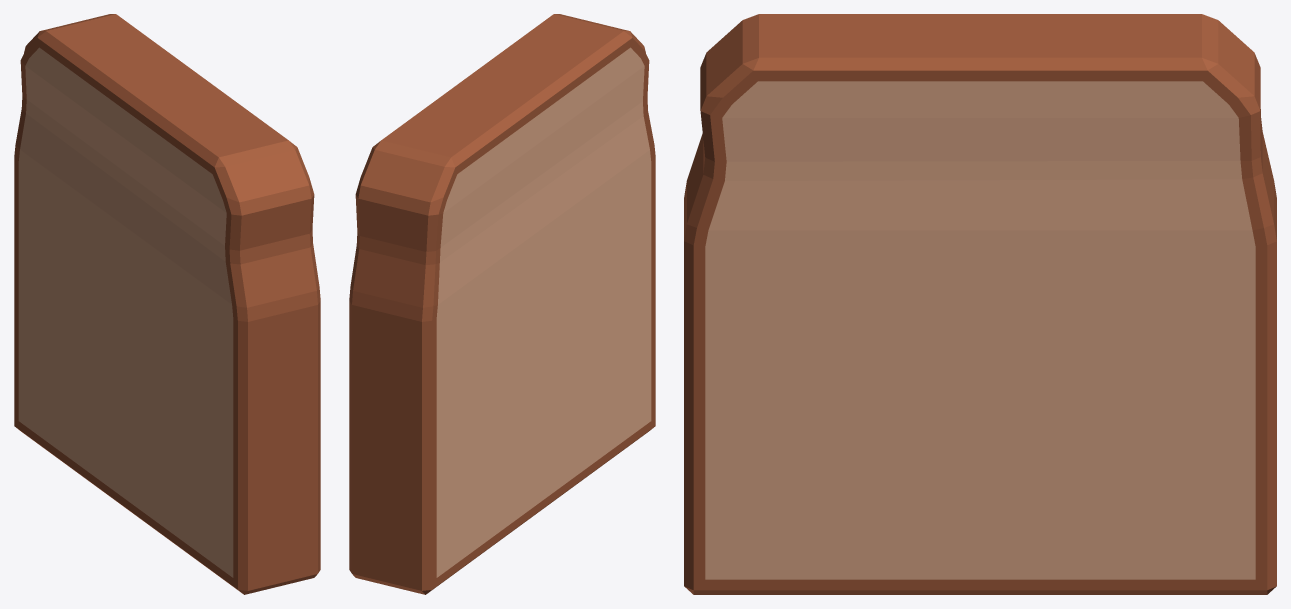
File: eppek.fbx
3 views of the same model, side by side, from view 1: azimuth 30°, elevation 25°; view 2: azimuth 150°, elevation 25°; view 3: azimuth 270°, elevation 25° (orthographic). The views are drawn at different scales.
Visible parts, largest first — view 1: Cube; view 2: Cube; view 3: Cube.
Boxes of the visible parts, x1=… form: Cube: x1=14, y1=14, x2=320, y2=594; Cube: x1=349, y1=14, x2=655, y2=594; Cube: x1=684, y1=14, x2=1276, y2=594.
Bounding box in the file's own units: 41.42 × 200 × 200.
